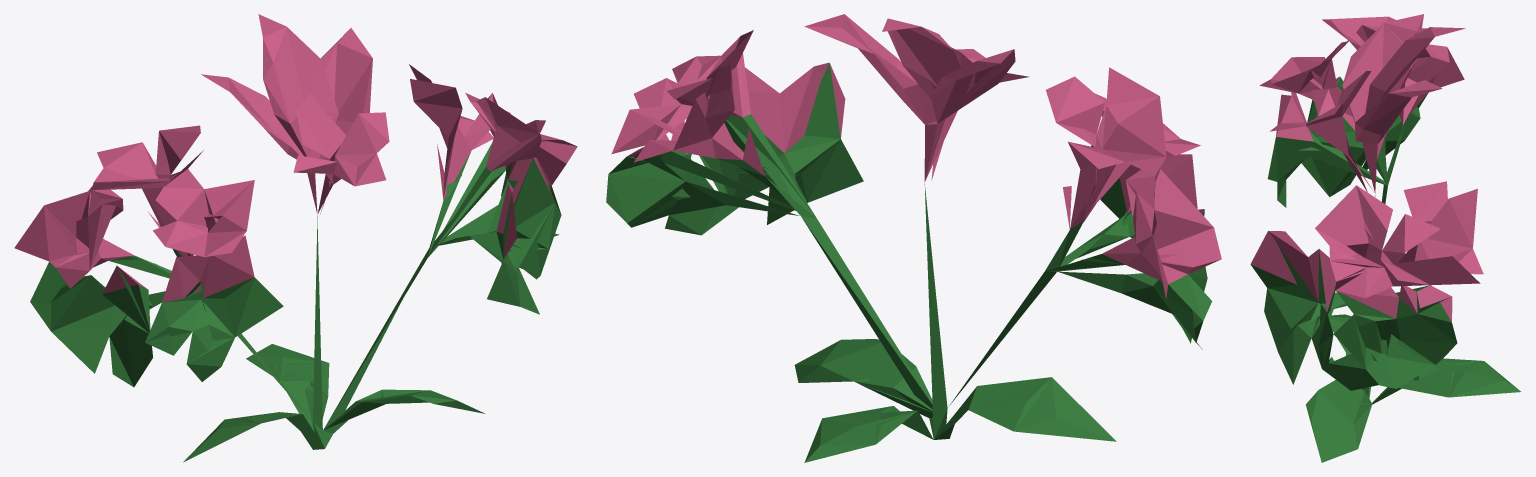
Rendered from flower-2.glb.
3 views of the same model, side by side, from view 1: azimuth 30°, elevation 25°; view 2: azimuth 150°, elevation 25°; view 3: azimuth 270°, elevation 25° (orthographic). The views are drawn at different scales.
Parts seen in each view (by area): view 1: output_unwrapped; view 2: output_unwrapped; view 3: output_unwrapped.
Part boxes in pixels (x1,y1,x2,y2): output_unwrapped: (14, 14, 577, 462); output_unwrapped: (606, 14, 1221, 462); output_unwrapped: (1250, 14, 1520, 462).
Size of the model in its own units: 0.6 by 0.4436 by 0.2901.
